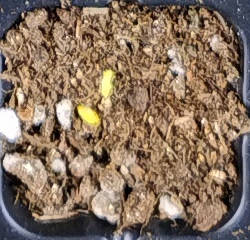chilli seed: (76, 104, 100, 124), (100, 68, 114, 98)
